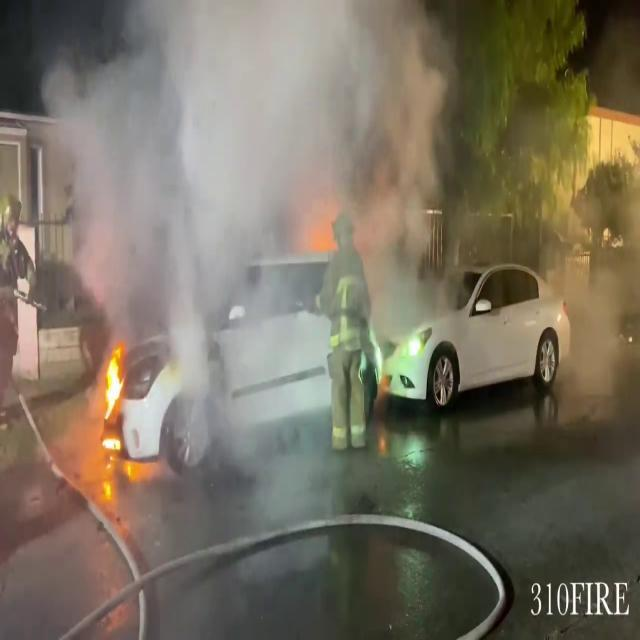Fire: (98, 342, 128, 438)
Smoke: (37, 0, 469, 325)
